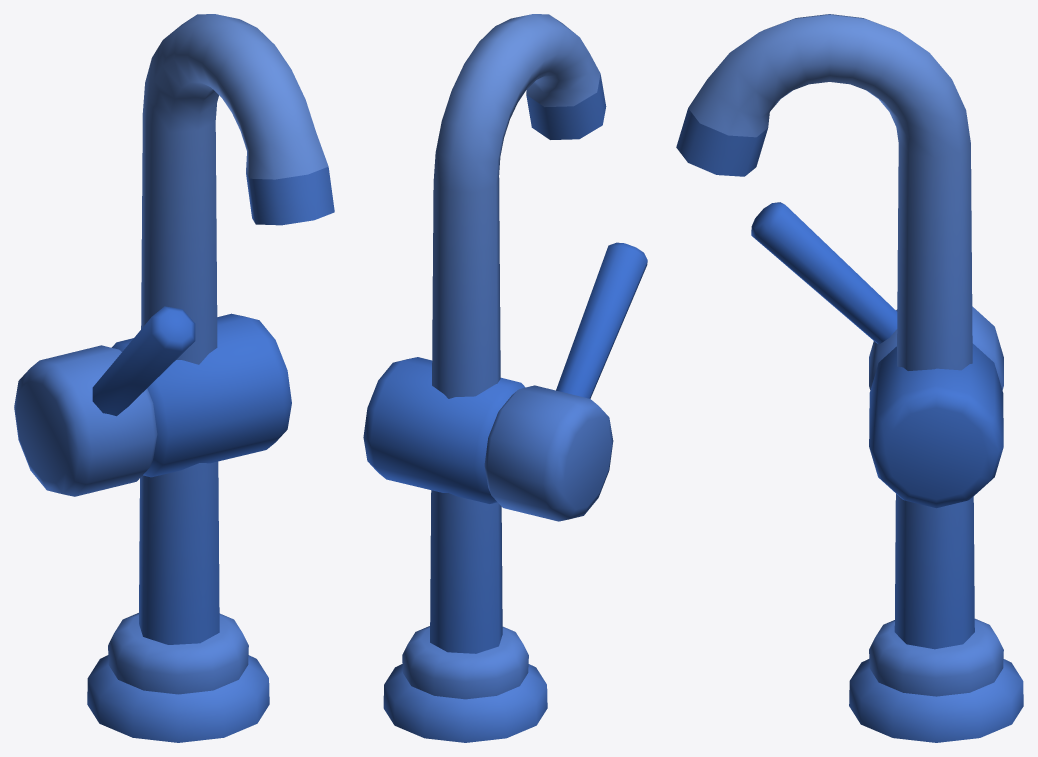
The model's file is Mixer_09.glb.
3 renders of one model, left to right at view 1: azimuth 30°, elevation 25°; view 2: azimuth 150°, elevation 25°; view 3: azimuth 270°, elevation 25°, orthographic. The views are drawn at different scales.
Parts seen in each view (by area): view 1: Mixer_09; view 2: Mixer_09; view 3: Mixer_09.
Boxes of the visible parts, bbox=[...] form: Mixer_09: bbox=[14, 14, 334, 742]; Mixer_09: bbox=[363, 14, 647, 742]; Mixer_09: bbox=[676, 14, 1023, 742].
Bounding box in the file's own units: 0.1504 × 0.4692 × 0.2139.
Materials: 1 (1 with a texture image).
